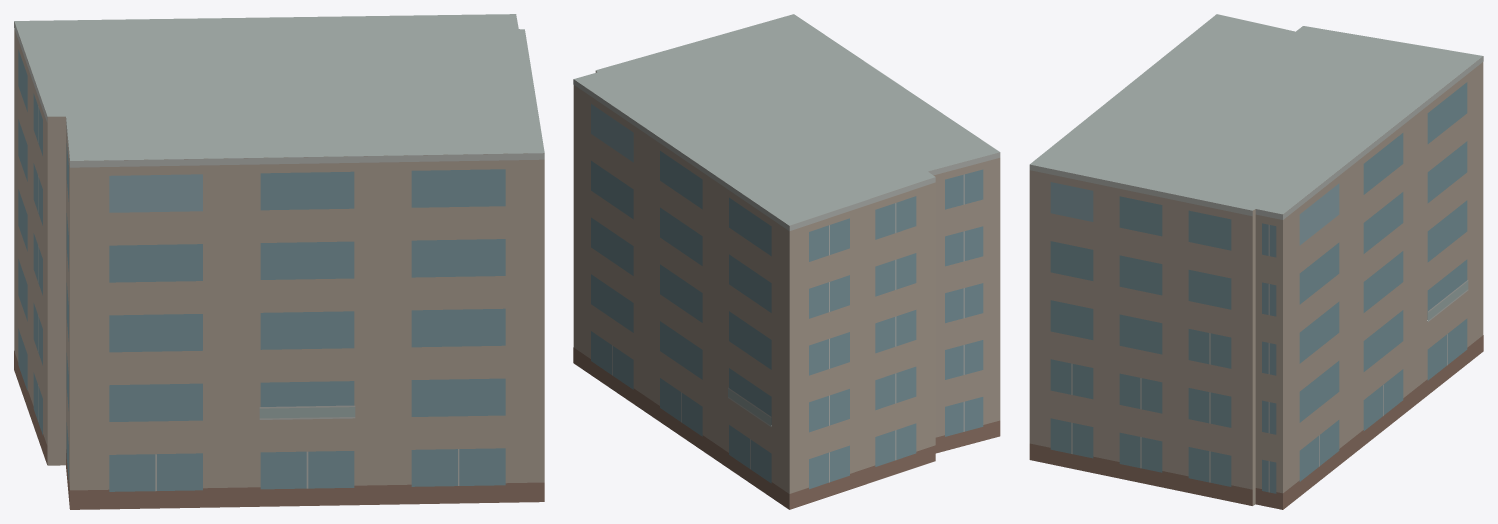
Rendered from survey-upis-32690604.glb.
The picture shows the model from 3 angles, left to right: view 1: azimuth 30°, elevation 25°; view 2: azimuth 150°, elevation 25°; view 3: azimuth 270°, elevation 25°; orthographic projection. The views are drawn at different scales.
Parts seen in each view (by area): view 1: survey-upis-32690604.tmp; view 2: survey-upis-32690604.tmp; view 3: survey-upis-32690604.tmp.
Part boxes in pixels (left/top/right/bottom): survey-upis-32690604.tmp: left=14, top=14, right=544, bottom=509; survey-upis-32690604.tmp: left=573, top=14, right=1000, bottom=509; survey-upis-32690604.tmp: left=1029, top=14, right=1483, bottom=509.
Bounding box in the file's own units: 18.7 × 12.84 × 17.89.
